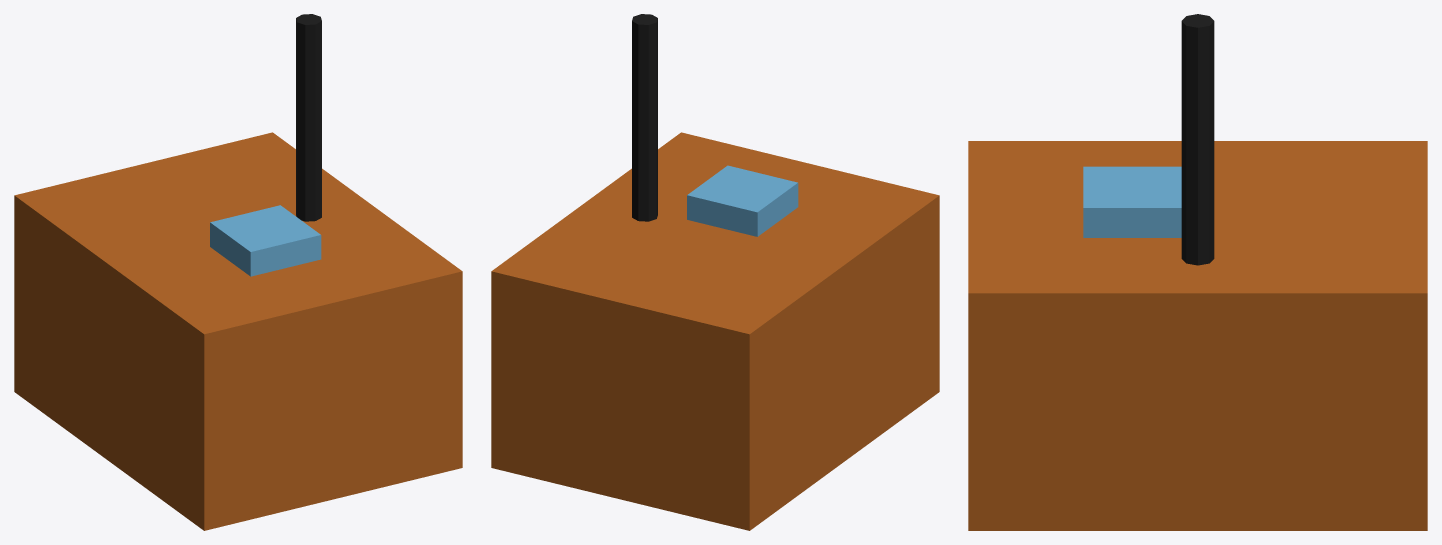
The model's file is g_battery.glb.
The picture shows the model from 3 angles, left to right: view 1: azimuth 30°, elevation 25°; view 2: azimuth 150°, elevation 25°; view 3: azimuth 270°, elevation 25°; orthographic projection. The views are drawn at different scales.
Parts seen in each view (by area): view 1: body, body_glow; view 2: body, body_glow; view 3: body, body_glow.
Boxes of the visible parts, bbox=[...] form: body: bbox=[14, 14, 462, 530]; body_glow: bbox=[210, 205, 321, 276]; body: bbox=[491, 14, 939, 530]; body_glow: bbox=[687, 165, 798, 236]; body: bbox=[968, 14, 1427, 530]; body_glow: bbox=[1083, 166, 1181, 237].
Bounding box in the file's own units: 0.11 × 0.16 × 0.14.
